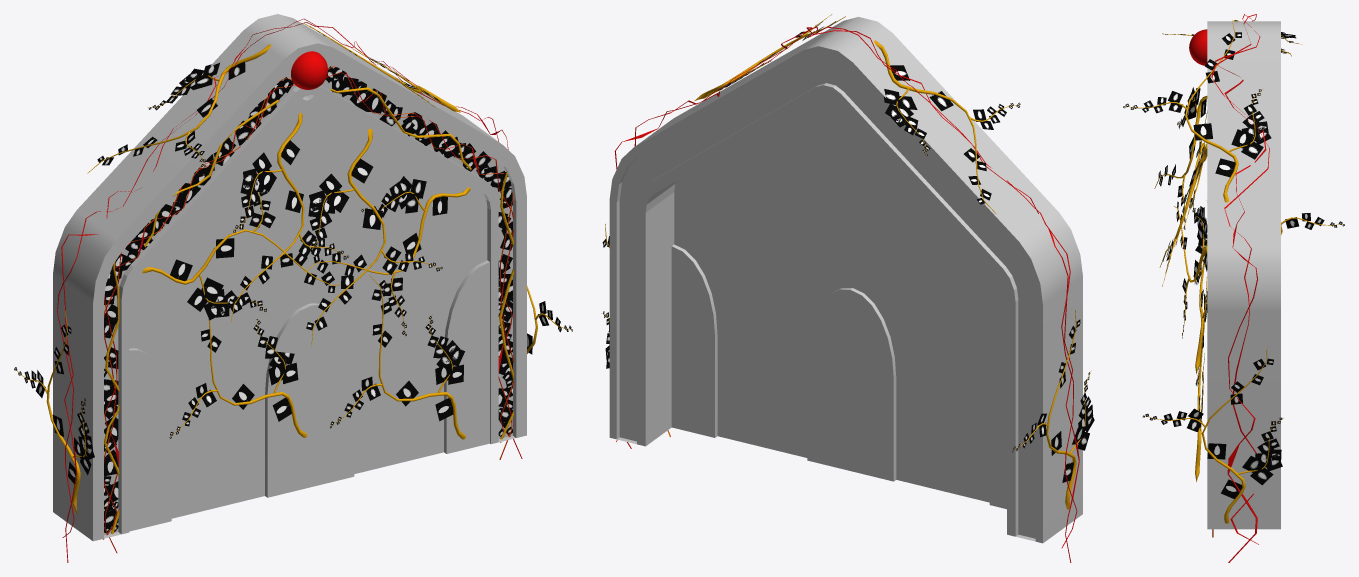
File: Porte_GPE.fbx
The picture shows the model from 3 angles, left to right: view 1: azimuth 30°, elevation 25°; view 2: azimuth 150°, elevation 25°; view 3: azimuth 270°, elevation 25°; orthographic projection. The views are drawn at different scales.
Visible parts, largest first — view 1: cadre, Porte_gauche2, Porte_droite2, plante_qui_grimpe, plante, plante3, plante4, plante1, plante_qui_grimpe_emissive, plante5, plante2, plante7 (+3 smaller); view 2: cadre, Porte_droite2, Porte_gauche2, plante7, plante_qui_grimpe_coter_emissive, plante6, plante8; view 3: cadre, plante8, plante9, plante_qui_grimpe_coter_emissive, plante1, plante2, plante4, plante, plante5, plante_qui_grimpe_emissive, plante6, plante3.
Boxes of the visible parts, x1,y1,x2,y2 form: cadre: (53,14,526,541); Porte_gauche2: (129,97,310,531); Porte_droite2: (304,95,489,486); plante_qui_grimpe: (104,66,513,552); plante: (306,129,442,345); plante3: (142,188,340,320); plante4: (330,275,465,439); plante1: (228,113,349,322); plante_qui_grimpe_emissive: (103,51,513,553); plante5: (169,319,307,438); plante2: (304,176,470,336); plante7: (87,44,271,173); cadre: (609,17,1082,543); Porte_droite2: (671,97,852,470); Porte_gauche2: (850,121,1006,509); plante7: (874,40,1020,213); plante_qui_grimpe_coter_emissive: (614,26,1079,562); plante6: (1012,310,1094,509); plante8: (694,14,845,100); cadre: (1207,21,1280,529); plante8: (1123,20,1271,202); plante9: (1142,346,1283,523); plante_qui_grimpe_coter_emissive: (1211,14,1269,562); plante1: (1154,87,1207,229); plante2: (1174,198,1207,338); plante4: (1195,277,1207,482); plante: (1159,148,1207,286); plante5: (1194,242,1207,374); plante_qui_grimpe_emissive: (1189,29,1212,537); plante6: (1195,200,1344,261); plante3: (1174,111,1207,246).
Size of the model in its own units: 528 by 537 by 242.
